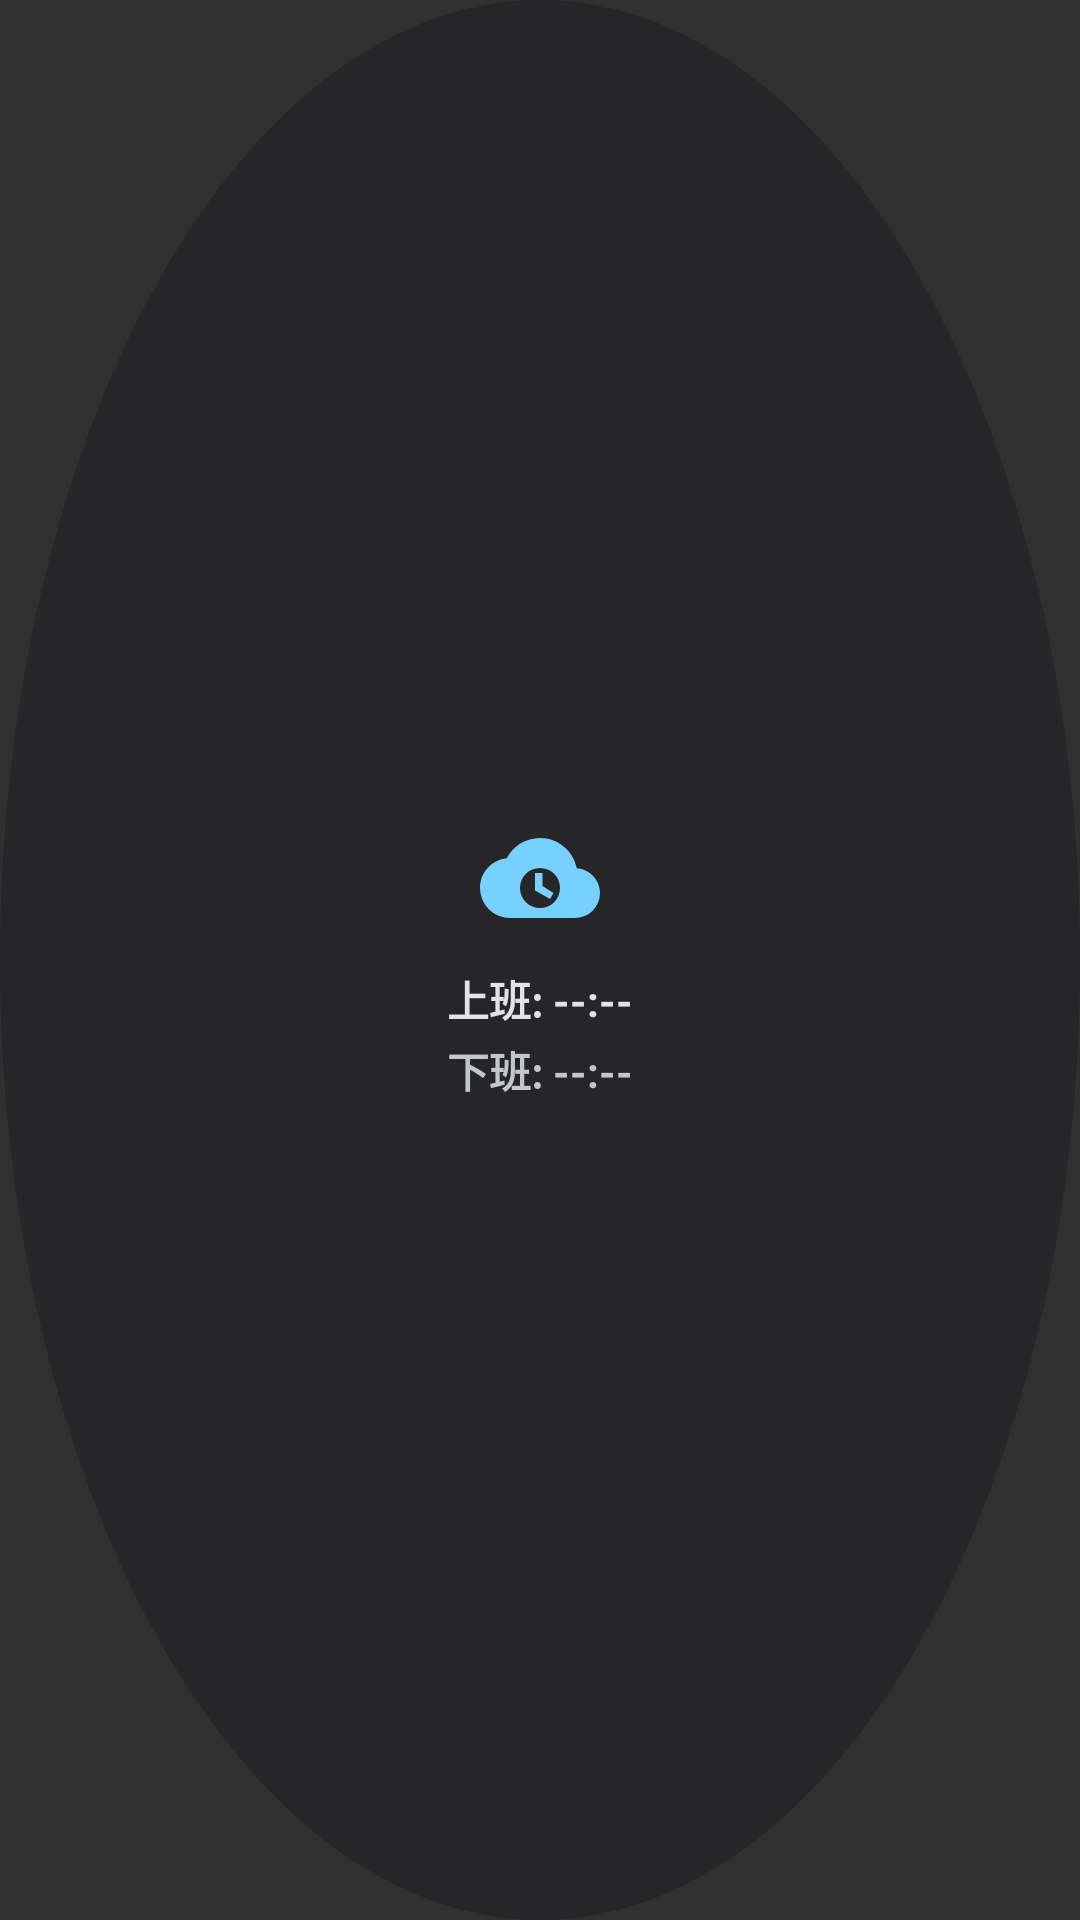

Locate icon controls on the screen. Image size 1080×1920, boxes as (left=x1, top=y1, right=x2, bottom=y2).
cloud clock: (left=480, top=838, right=600, bottom=918)
